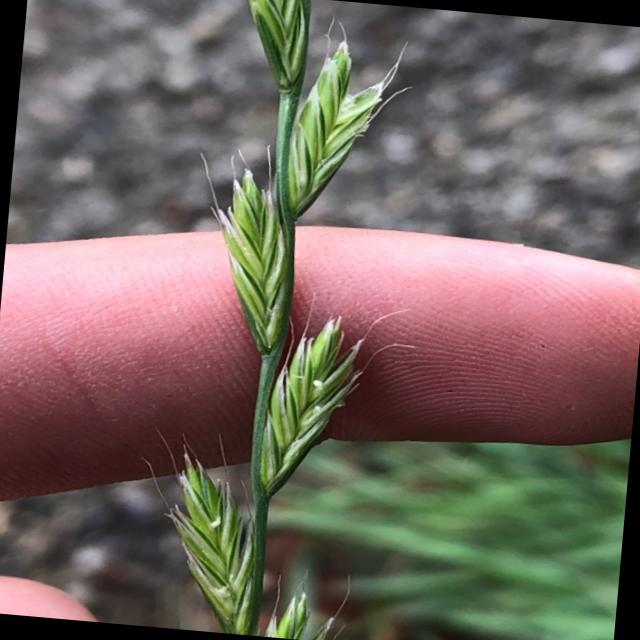Lolium: (147, 0, 424, 640)
